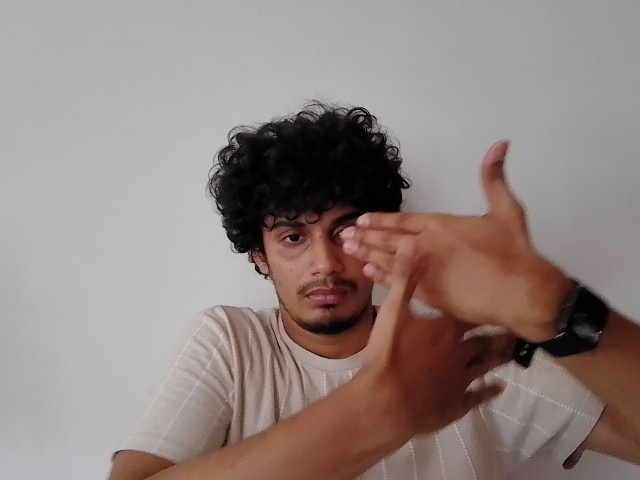work: (349, 135, 544, 421)
